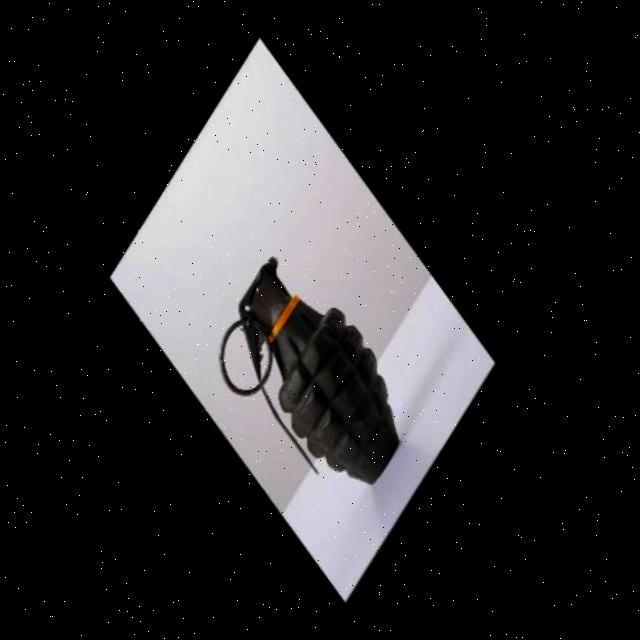grenade: (169, 210, 454, 528)
